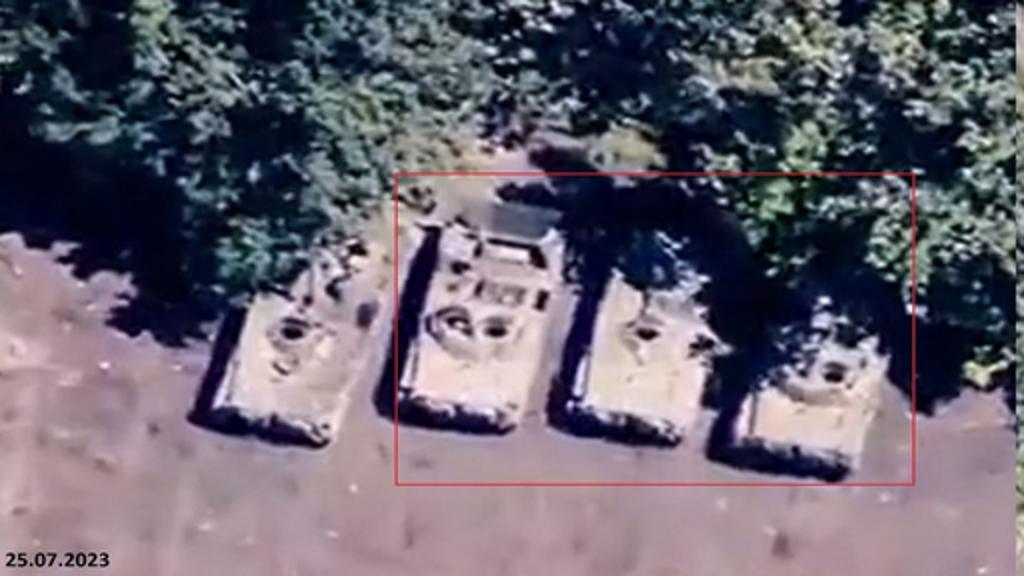APC-IFV: (210, 216, 372, 446), (730, 242, 886, 470), (398, 206, 548, 434), (564, 230, 712, 444)
